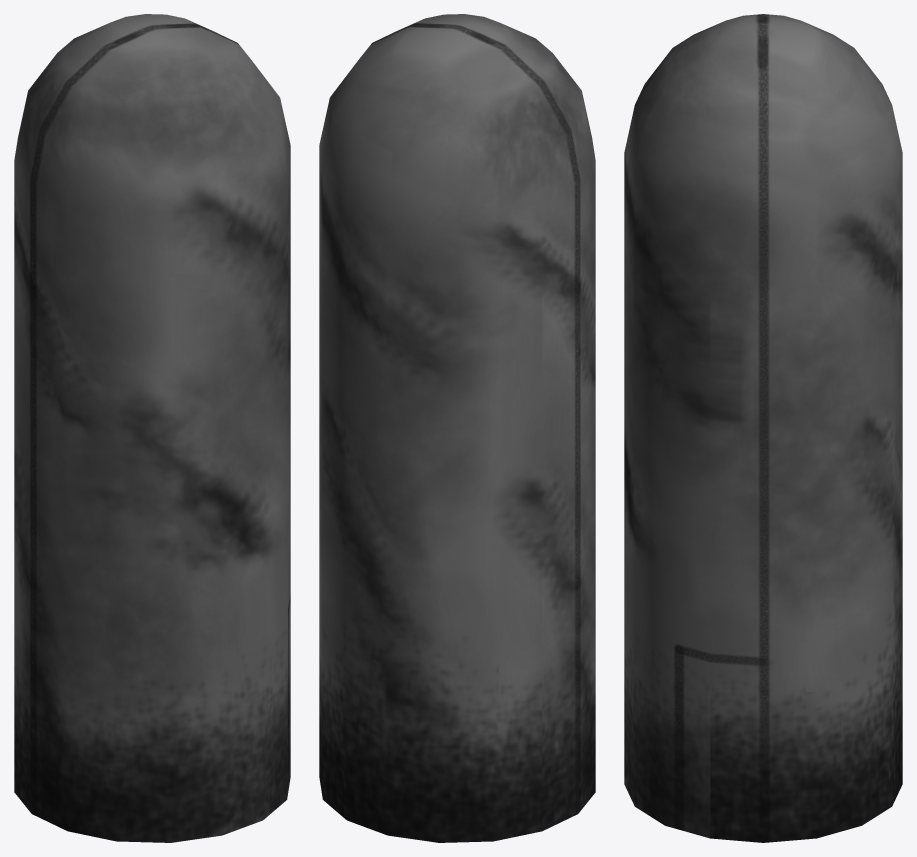
File: sylo.fbx
3 views of the same model, side by side, from view 1: azimuth 30°, elevation 25°; view 2: azimuth 150°, elevation 25°; view 3: azimuth 270°, elevation 25° (orthographic).
Parts seen in each view (by area): view 1: Circle; view 2: Circle; view 3: Circle.
Part boxes in pixels (<box>): Circle: <box>14,14,290,842</box>; Circle: <box>319,14,595,842</box>; Circle: <box>624,14,902,842</box>.
Size of the model in its own units: 2000 by 6000 by 2000.
